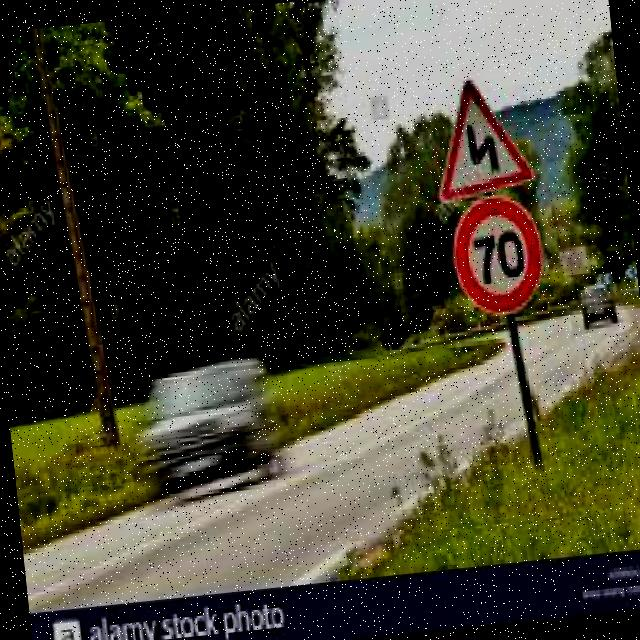Ograniczenie predkosci do 70: (447, 190, 551, 326)
